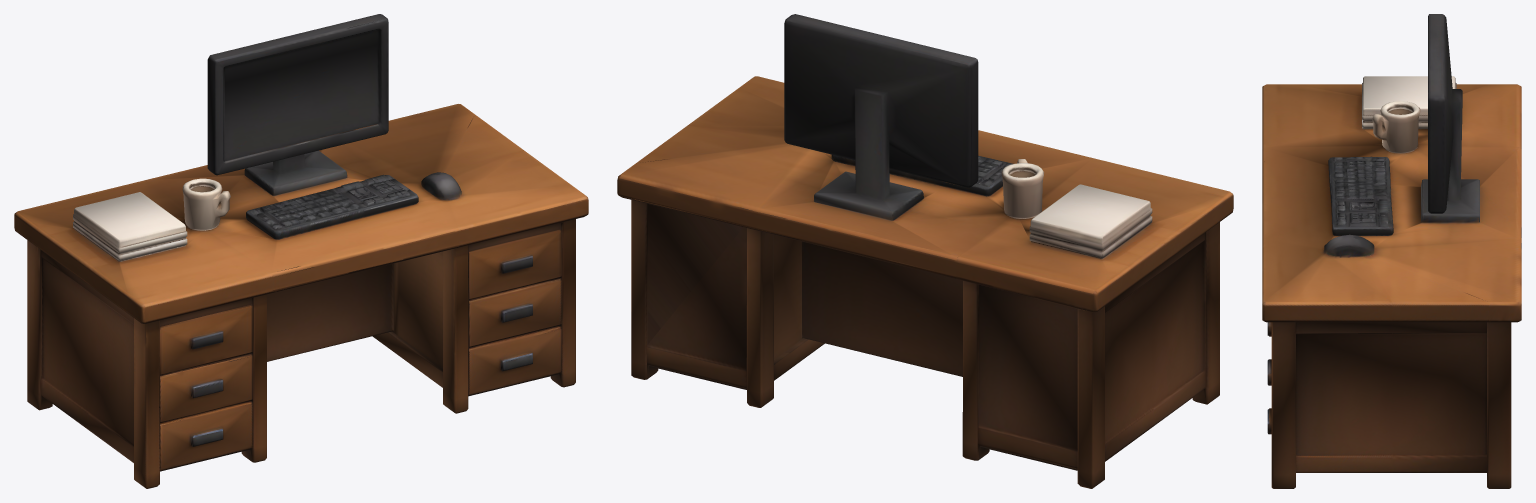
The model's file is desk.glb.
The picture shows the model from 3 angles, left to right: view 1: azimuth 30°, elevation 25°; view 2: azimuth 150°, elevation 25°; view 3: azimuth 270°, elevation 25°; orthographic projection. The views are drawn at different scales.
Visible parts, largest first — view 1: tripo_node_41ba54d4-b538-48dc-8161-884ea2fb7429; view 2: tripo_node_41ba54d4-b538-48dc-8161-884ea2fb7429; view 3: tripo_node_41ba54d4-b538-48dc-8161-884ea2fb7429.
Part boxes in pixels (left/top/right/bottom): tripo_node_41ba54d4-b538-48dc-8161-884ea2fb7429: left=14, top=14, right=588, bottom=488; tripo_node_41ba54d4-b538-48dc-8161-884ea2fb7429: left=617, top=14, right=1233, bottom=488; tripo_node_41ba54d4-b538-48dc-8161-884ea2fb7429: left=1262, top=14, right=1521, bottom=488.
Bounding box in the file's own units: 0.998 × 0.7168 × 0.498.
Materials: 1 (1 with a texture image).
